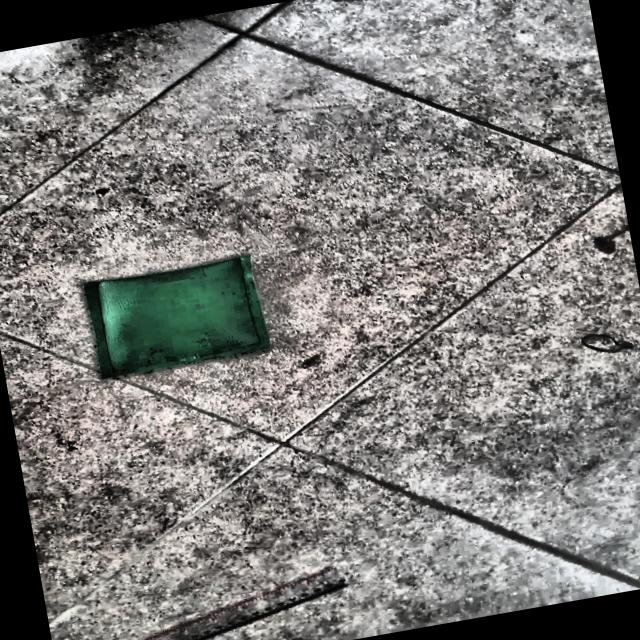payload: (84, 255, 269, 378)
